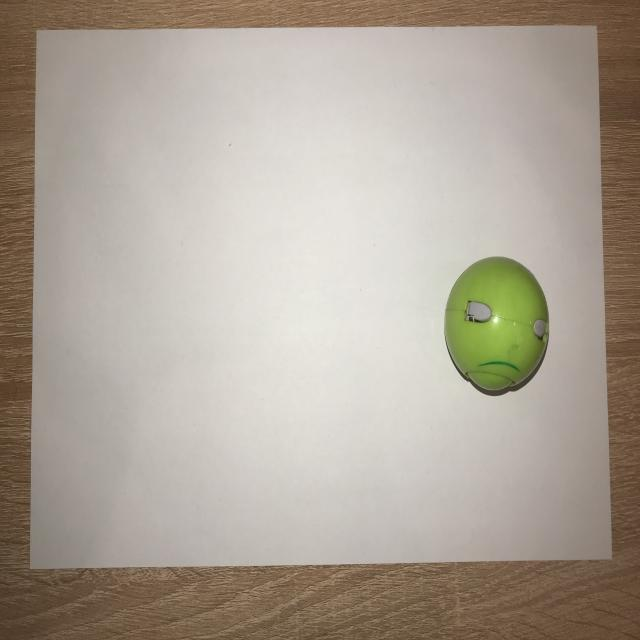toy: (437, 242, 558, 406)
